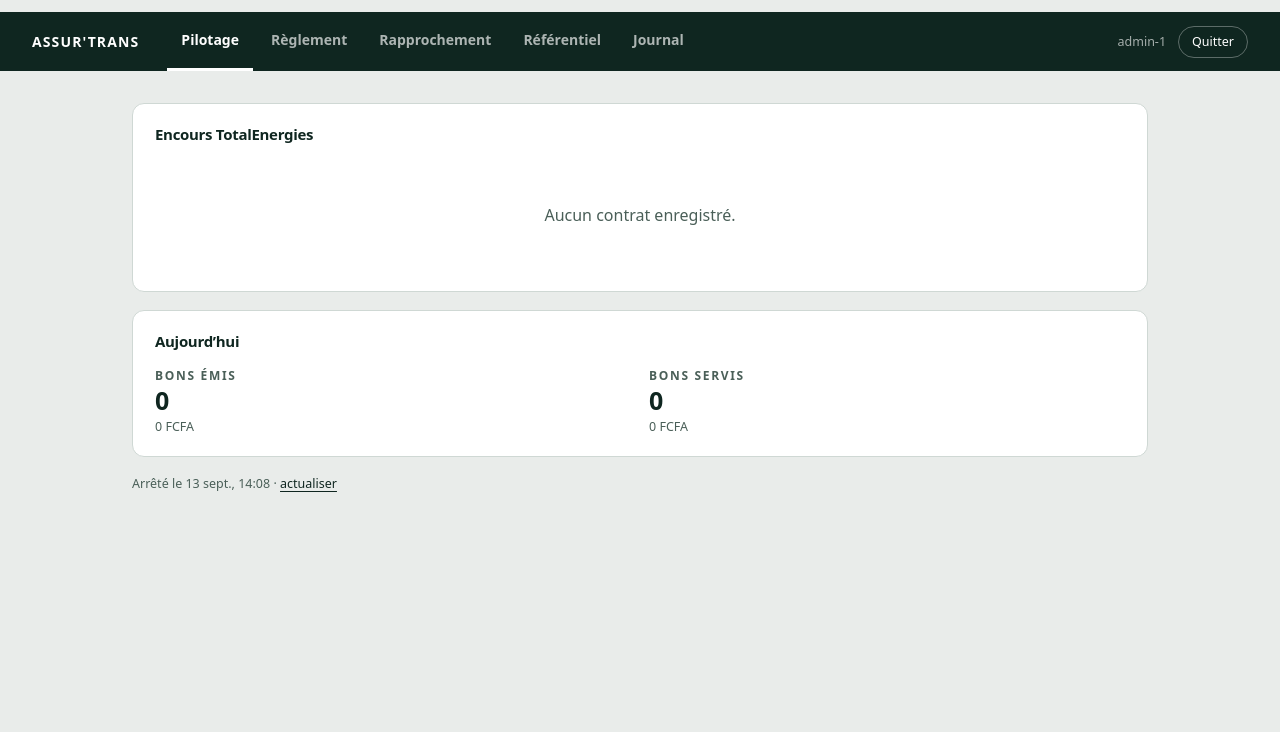
Test: factures › propose à nouveau après annulation
This screenshot has width=1280, height=732.
Click the button "Règlement" at (309, 42), box x1=257 y1=12 x2=361 y2=71
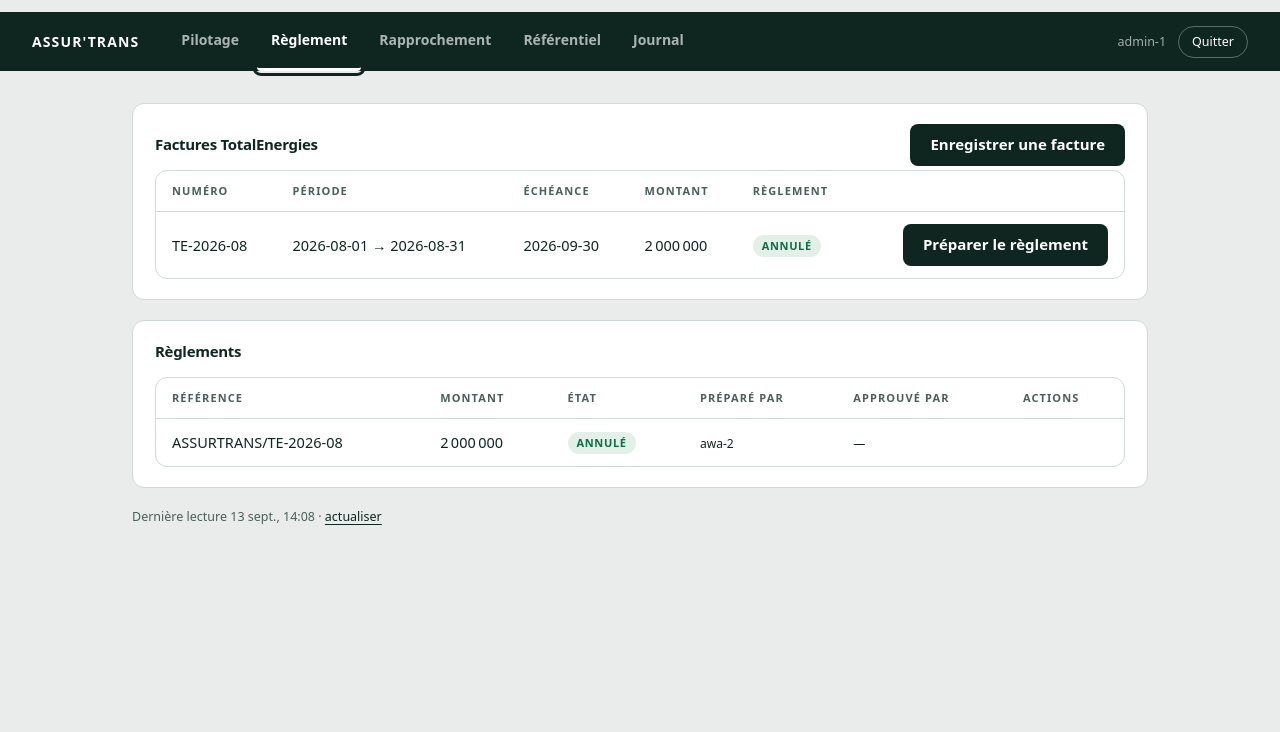
Now the button "Préparer le règlement" is shown, box x1=903 y1=224 x2=1108 y2=266
